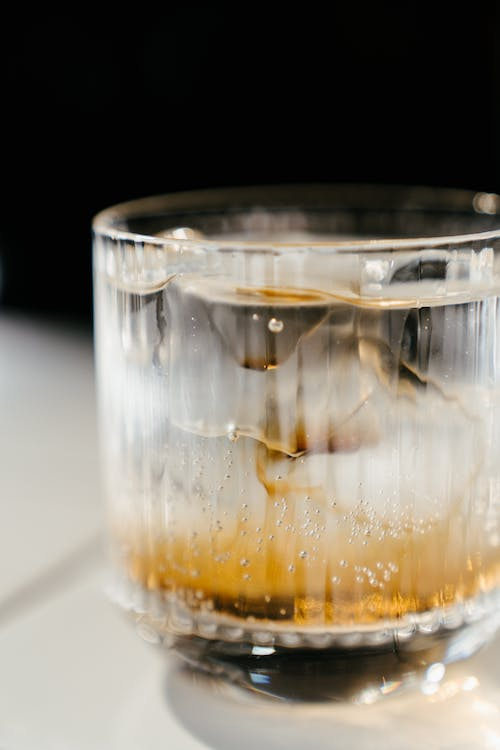alcohol: (90, 184, 500, 710)
